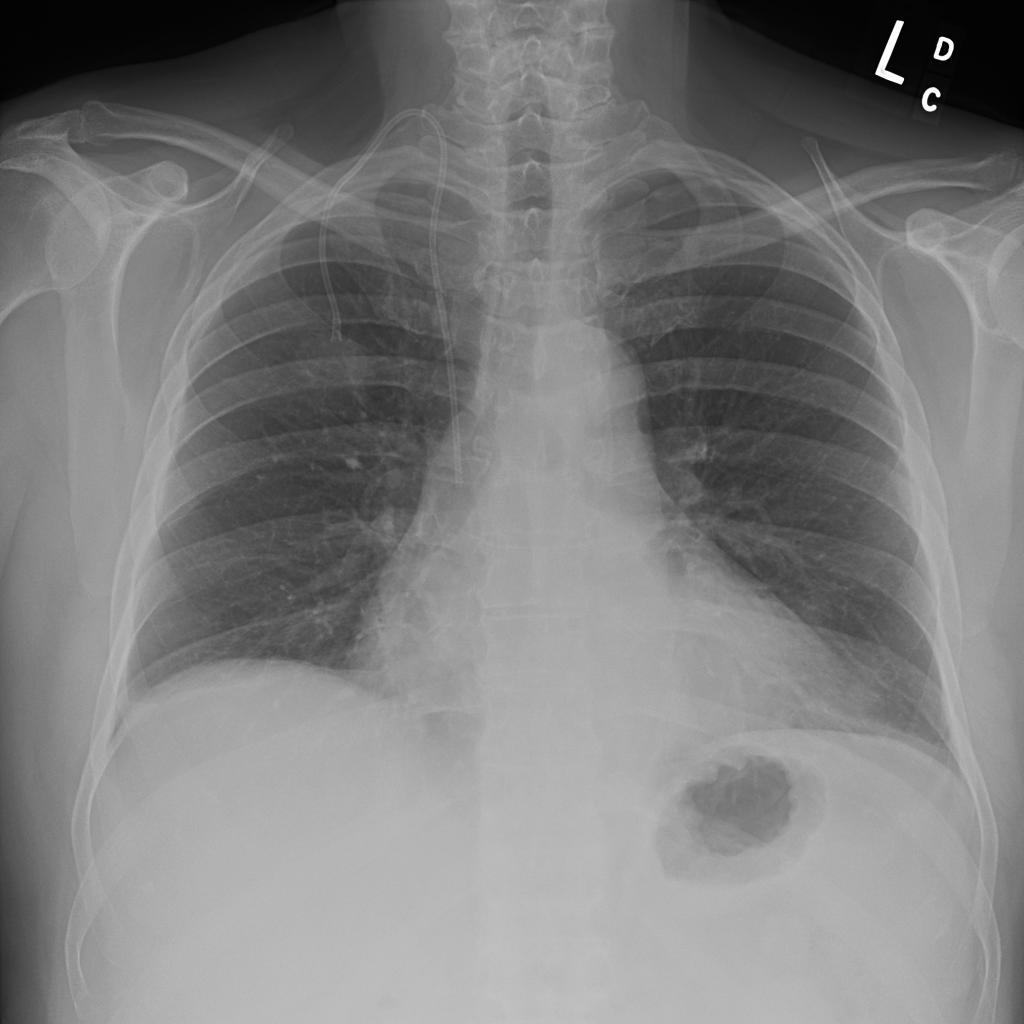Nodule: (416, 335, 454, 370), (337, 115, 364, 140), (327, 93, 353, 117)
